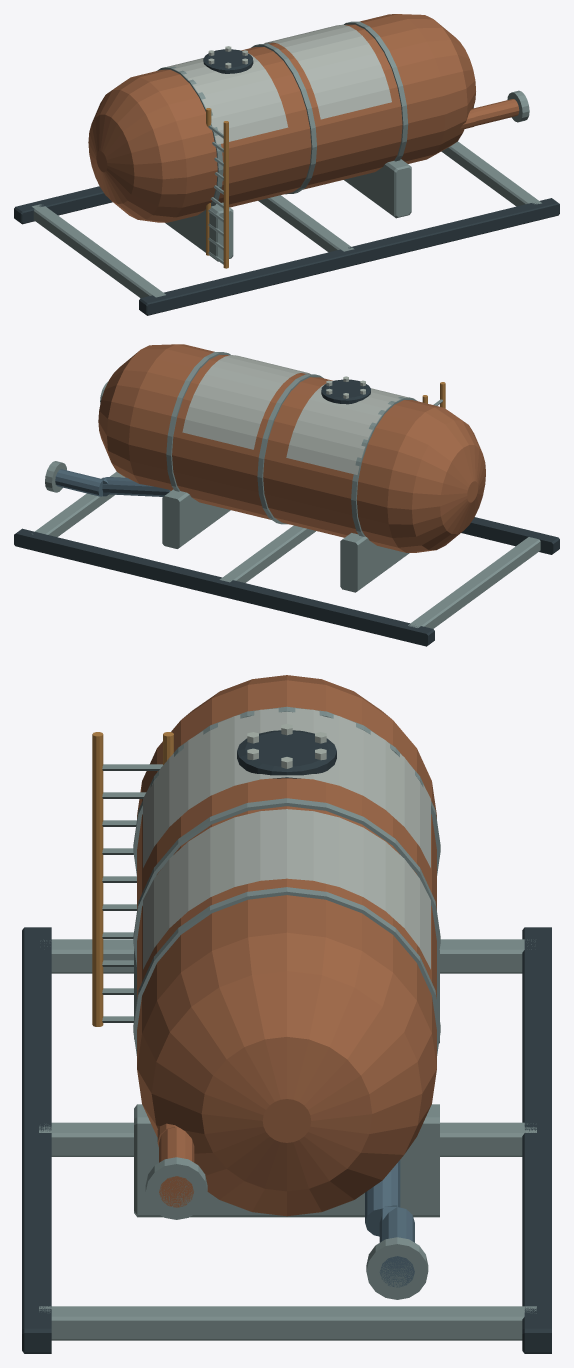
File: UT-02_jacketed_receiver.glb
3 renders of one model, top to bottom at view 1: azimuth 30°, elevation 25°; view 2: azimuth 150°, elevation 25°; view 3: azimuth 270°, elevation 25°, orthographic. The views are drawn at different scales.
Parts seen in each view (by area): view 1: UT-02_jacketed_receiver; view 2: UT-02_jacketed_receiver; view 3: UT-02_jacketed_receiver.
Part boxes in pixels (bbox=[...]): UT-02_jacketed_receiver: bbox=[14, 14, 559, 315]; UT-02_jacketed_receiver: bbox=[14, 344, 559, 646]; UT-02_jacketed_receiver: bbox=[22, 675, 551, 1353].
Bounding box in the file's own units: 13 × 5.29 × 7.2.
